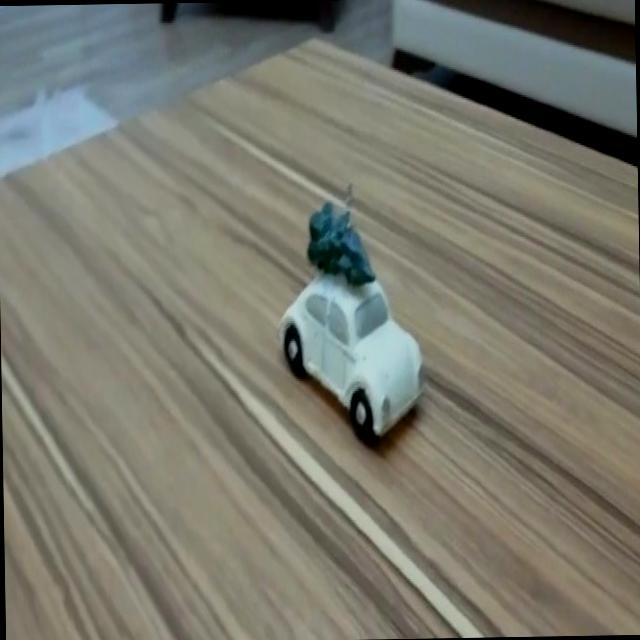car: (276, 276, 425, 432)
